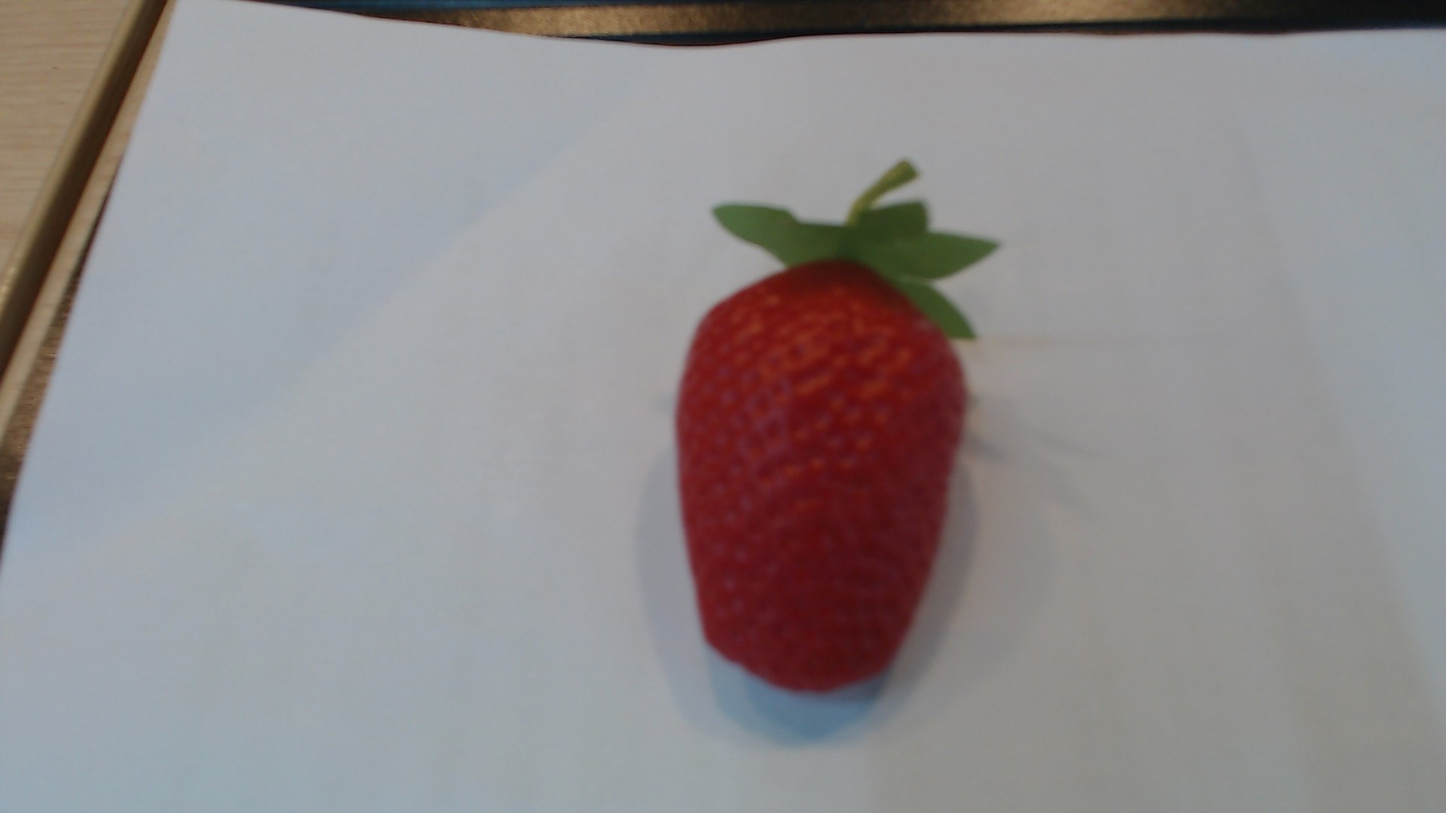strawberry: (674, 233, 976, 707)
